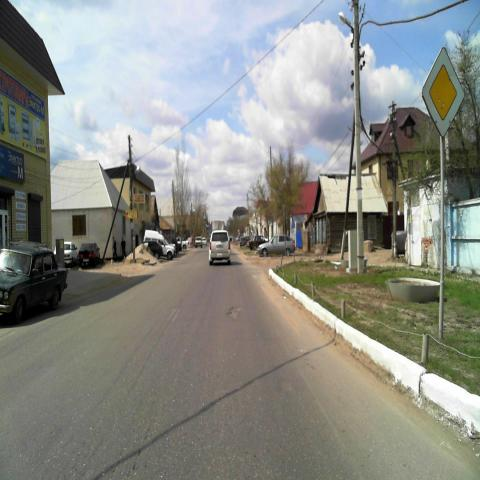2_1: (421, 45, 465, 140)
